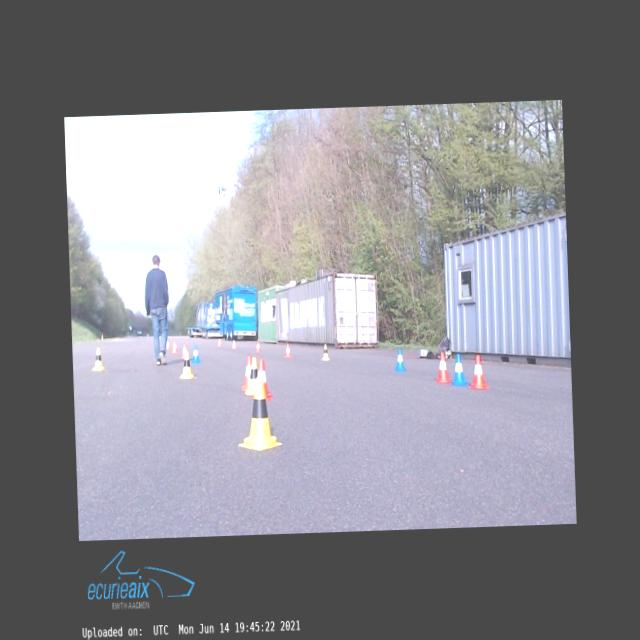blue_cone: (451, 354, 468, 386), (394, 348, 406, 372), (190, 344, 200, 364)
orange_cone: (250, 358, 272, 400), (467, 354, 488, 389), (433, 352, 451, 384), (240, 356, 252, 390), (283, 342, 291, 358), (180, 344, 186, 358), (172, 340, 178, 352), (256, 340, 260, 352), (166, 338, 170, 349), (232, 339, 236, 348), (218, 338, 220, 346)
yellow_cone: (236, 378, 282, 450), (244, 357, 258, 394), (178, 350, 193, 378), (90, 348, 103, 370), (320, 344, 330, 360)
